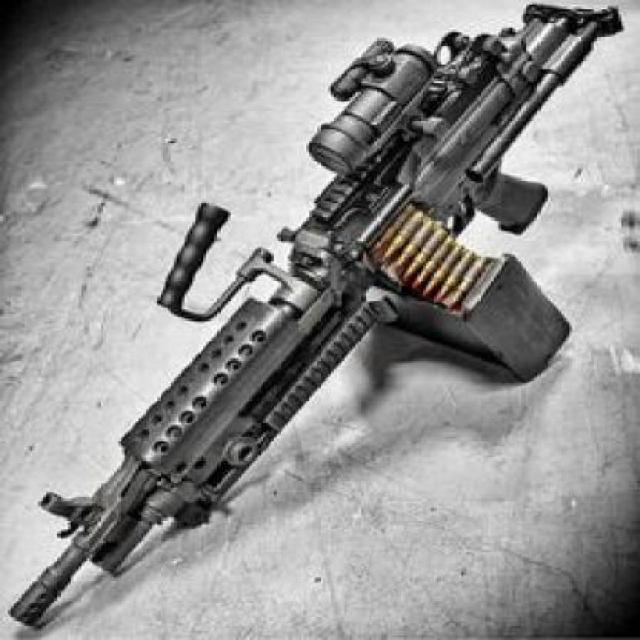weapon: (9, 0, 638, 640)
